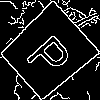P: (23, 26, 81, 82)
